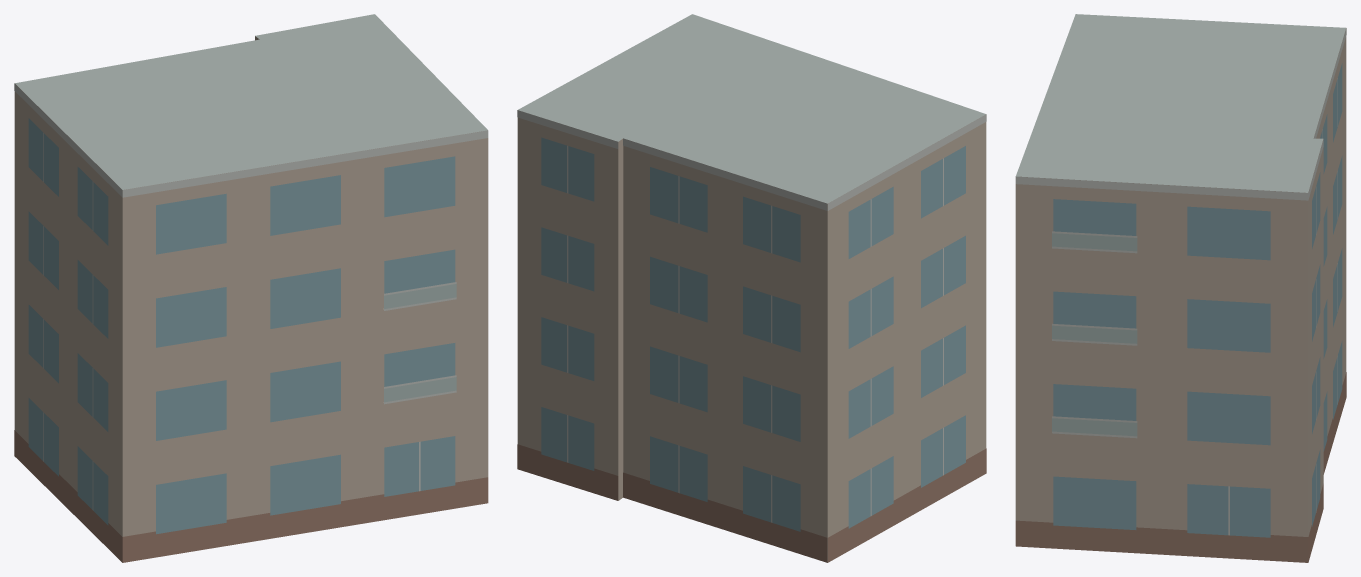
The model's file is survey-upis-32936827.glb.
3 views of the same model, side by side, from view 1: azimuth 30°, elevation 25°; view 2: azimuth 150°, elevation 25°; view 3: azimuth 270°, elevation 25° (orthographic). The views are drawn at different scales.
Visible parts, largest first — view 1: survey-upis-32936827.tmp; view 2: survey-upis-32936827.tmp; view 3: survey-upis-32936827.tmp.
Boxes of the visible parts, x1,y1,x2,y2 form: survey-upis-32936827.tmp: (14, 14, 488, 562); survey-upis-32936827.tmp: (517, 14, 986, 562); survey-upis-32936827.tmp: (1015, 14, 1346, 562).
Size of the model in its own units: 12.25 by 11.8 by 9.57.
